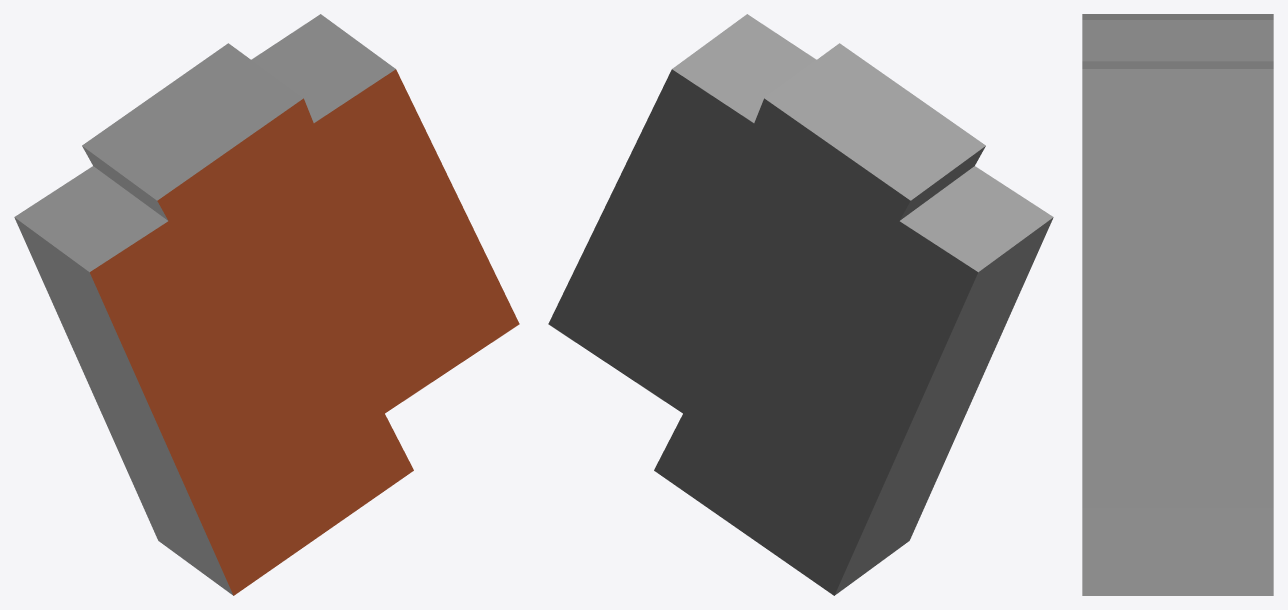
File: construction_2025_assumed_A_Casa_h6m.obj
The picture shows the model from 3 angles, left to right: view 1: azimuth 30°, elevation 25°; view 2: azimuth 150°, elevation 25°; view 3: azimuth 270°, elevation 25°; orthographic projection. The views are drawn at different scales.
Visible parts, largest first — view 1: construction_2025_assumed_A_Casa; view 2: construction_2025_assumed_A_Casa; view 3: construction_2025_assumed_A_Casa.
Boxes of the visible parts, bbox=[...] form: construction_2025_assumed_A_Casa: bbox=[14, 14, 519, 595]; construction_2025_assumed_A_Casa: bbox=[548, 14, 1053, 595]; construction_2025_assumed_A_Casa: bbox=[1082, 14, 1273, 595].
Bounding box in the file's own units: 19.77 × 21.4 × 6.
